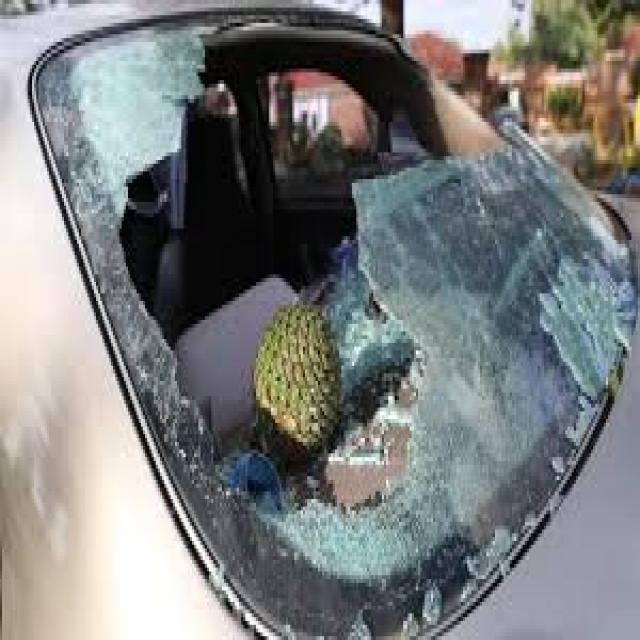minor: (24, 0, 633, 606)
